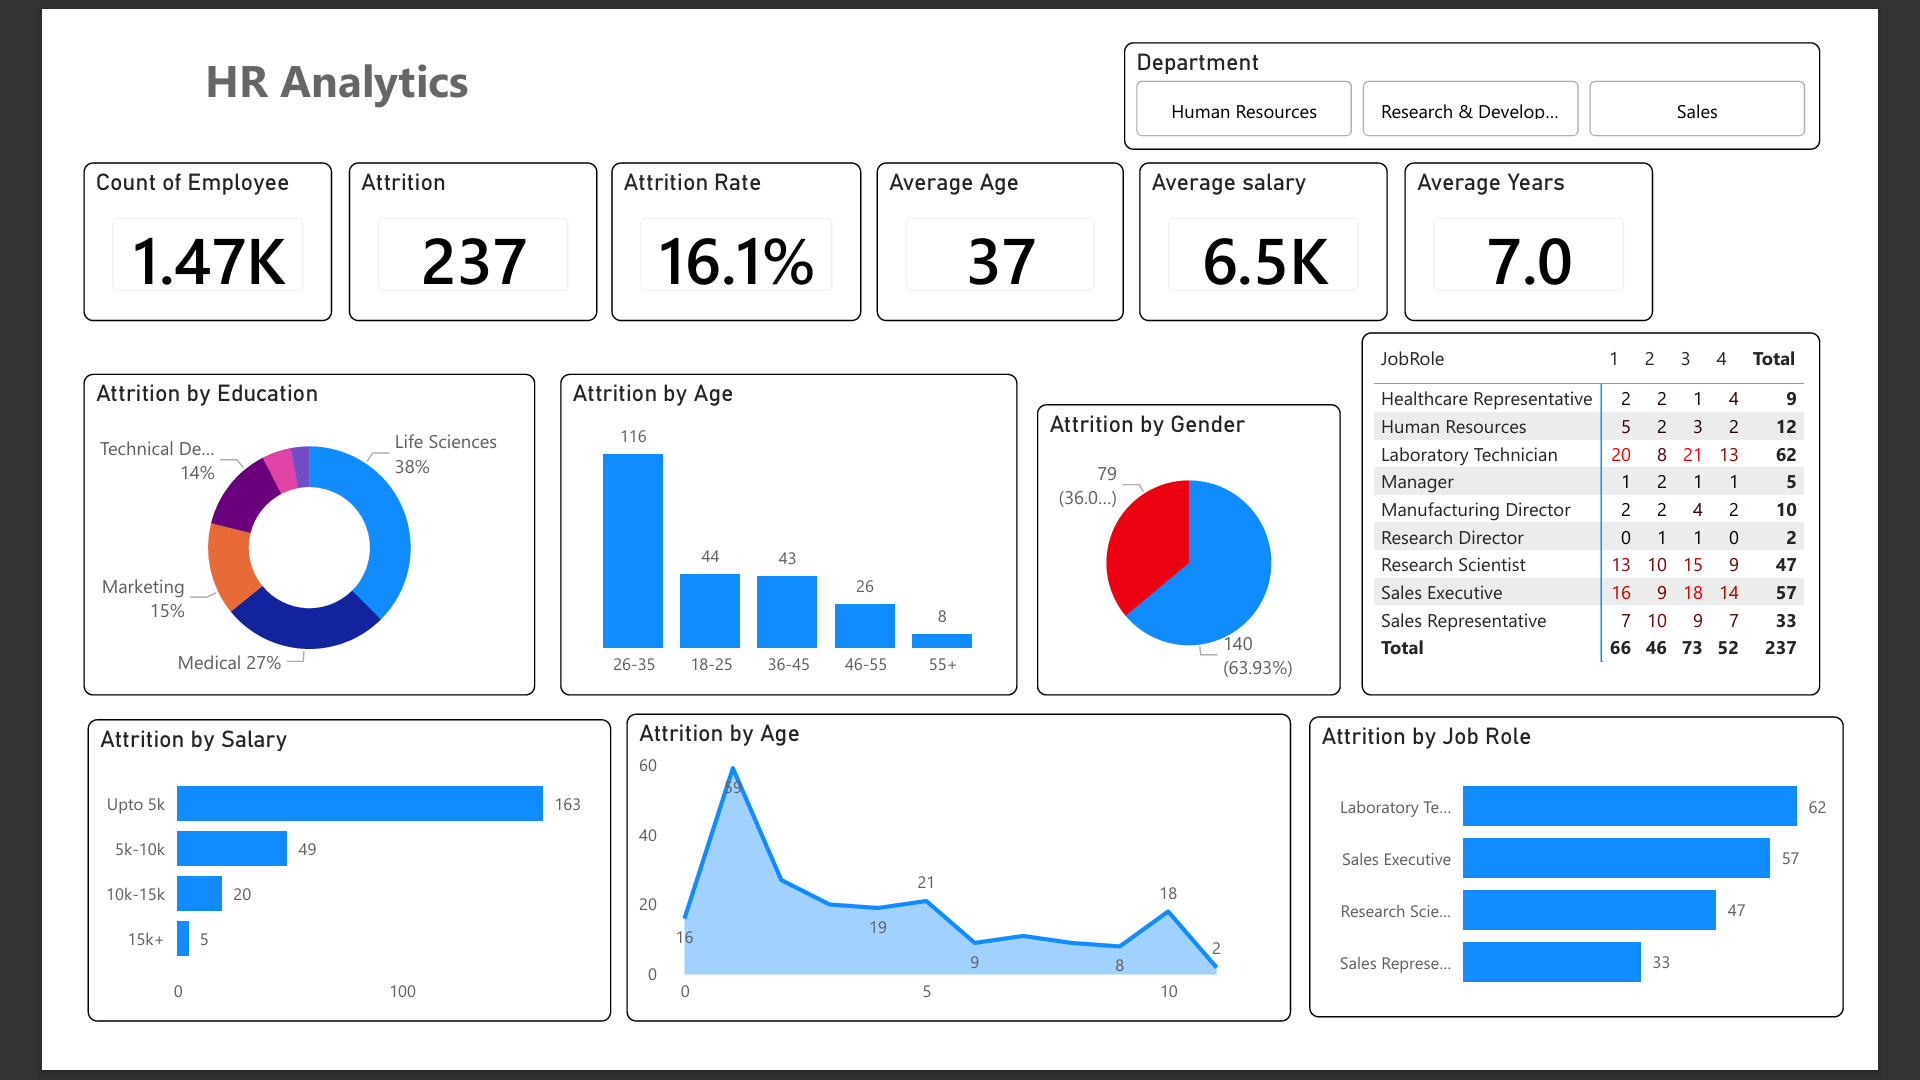

The dashboard page shown, as its layout file describes it:
{"tool":"powerbi","page":{"name":"Page 1","canvas":[1280,720],"ordinal":0},"visuals":[{"type":"cardVisual","title":"Count of Employee","fields":{"Data":["CountNonNull(HR_Analytics.EmpID)"]},"box":[6.1,86.8,179.8,114.9],"z":0},{"type":"cardVisual","title":"Attrition","fields":{"Data":["Sum(HR_Analytics.AttritionCount)"]},"box":[198.1,86.8,179.8,114.9],"z":1000},{"type":"cardVisual","title":"Attrition Rate","fields":{"Data":["HR_Analytics.AttritionRate"]},"box":[387.6,86.8,181,114.9],"z":2000},{"type":"cardVisual","title":"Average Age","fields":{"Data":["Avg(HR_Analytics.Age)"]},"box":[579.6,86.8,179.8,114.9],"z":3000},{"type":"cardVisual","title":"Average salary ","fields":{"Data":["Avg(HR_Analytics.MonthlyIncome)"]},"box":[770.4,86.8,179.8,114.9],"z":4000},{"type":"cardVisual","title":"Average Years","fields":{"Data":["Avg(HR_Analytics.YearsAtCompany)"]},"box":[962.4,86.8,179.8,114.9],"z":5000},{"type":"donutChart","title":"Attrition by Education","fields":{"Category":["HR_Analytics.EducationField"],"Y":["Sum(HR_Analytics.AttritionCount)"]},"box":[6.1,239.7,326.5,233.6],"z":6000},{"type":"columnChart","title":"Attrition by Age","fields":{"Category":["HR_Analytics.AgeGroup"],"Y":["Sum(HR_Analytics.AttritionCount)"]},"box":[351,239.7,331.4,233.6],"z":7000},{"type":"pivotTable","fields":{"Rows":["HR_Analytics.JobRole"],"Columns":["HR_Analytics.JobSatisfaction"],"Values":["Sum(HR_Analytics.AttritionCount)"]},"box":[930.6,210.3,332.6,262.9],"z":8000},{"type":"clusteredBarChart","title":"Attrition by Salary ","fields":{"Category":["HR_Analytics.SalarySlab"],"Y":["Sum(HR_Analytics.AttritionCount)"]},"box":[8.8,490,378.8,218.8],"z":9000},{"type":"barChart","title":"Attrition by Job Role","fields":{"Category":["HR_Analytics.JobRole"],"Y":["Sum(HR_Analytics.AttritionCount)"]},"box":[892.5,487.5,387.5,218.8],"z":10000},{"type":"areaChart","title":"Attrition by Age","fields":{"Category":["HR_Analytics.YearsAtCompany"],"Y":["Sum(HR_Analytics.AttritionCount)"]},"box":[398.8,486.2,481.2,222.5],"z":11000},{"type":"pieChart","title":"Attrition by Gender","fields":{"Category":["HR_Analytics.Gender"],"Y":["Sum(HR_Analytics.AttritionCount)"]},"box":[695.8,261.7,220.1,211.6],"z":12000},{"type":"textbox","box":[8.8,0,370,57.5],"z":13000},{"type":"advancedSlicerVisual","fields":{"Values":["HR_Analytics.Department"]},"box":[759.4,0,503.8,78.3],"z":14000}]}

Visuals, with their boxes in screenshot pixels (x1, y1, x2, y2), scaled from the page's 1280x720 canvas onto the 1920x1080 screenshot:
"Count of Employee" cardVisual: [9, 130, 279, 303]
"Attrition" cardVisual: [297, 130, 567, 303]
"Attrition Rate" cardVisual: [581, 130, 853, 303]
"Average Age" cardVisual: [869, 130, 1139, 303]
"Average salary " cardVisual: [1156, 130, 1425, 303]
"Average Years" cardVisual: [1444, 130, 1713, 303]
"Attrition by Education" donutChart: [9, 360, 499, 710]
"Attrition by Age" columnChart: [526, 360, 1024, 710]
pivotTable - HR_Analytics.JobRole x HR_Analytics.JobSatisfaction: [1396, 315, 1895, 710]
"Attrition by Salary " clusteredBarChart: [13, 735, 581, 1063]
"Attrition by Job Role" barChart: [1339, 731, 1919, 1059]
"Attrition by Age" areaChart: [598, 729, 1320, 1063]
"Attrition by Gender" pieChart: [1044, 393, 1374, 710]
textbox: [13, 0, 568, 86]
advancedSlicerVisual - HR_Analytics.Department: [1139, 0, 1895, 117]
